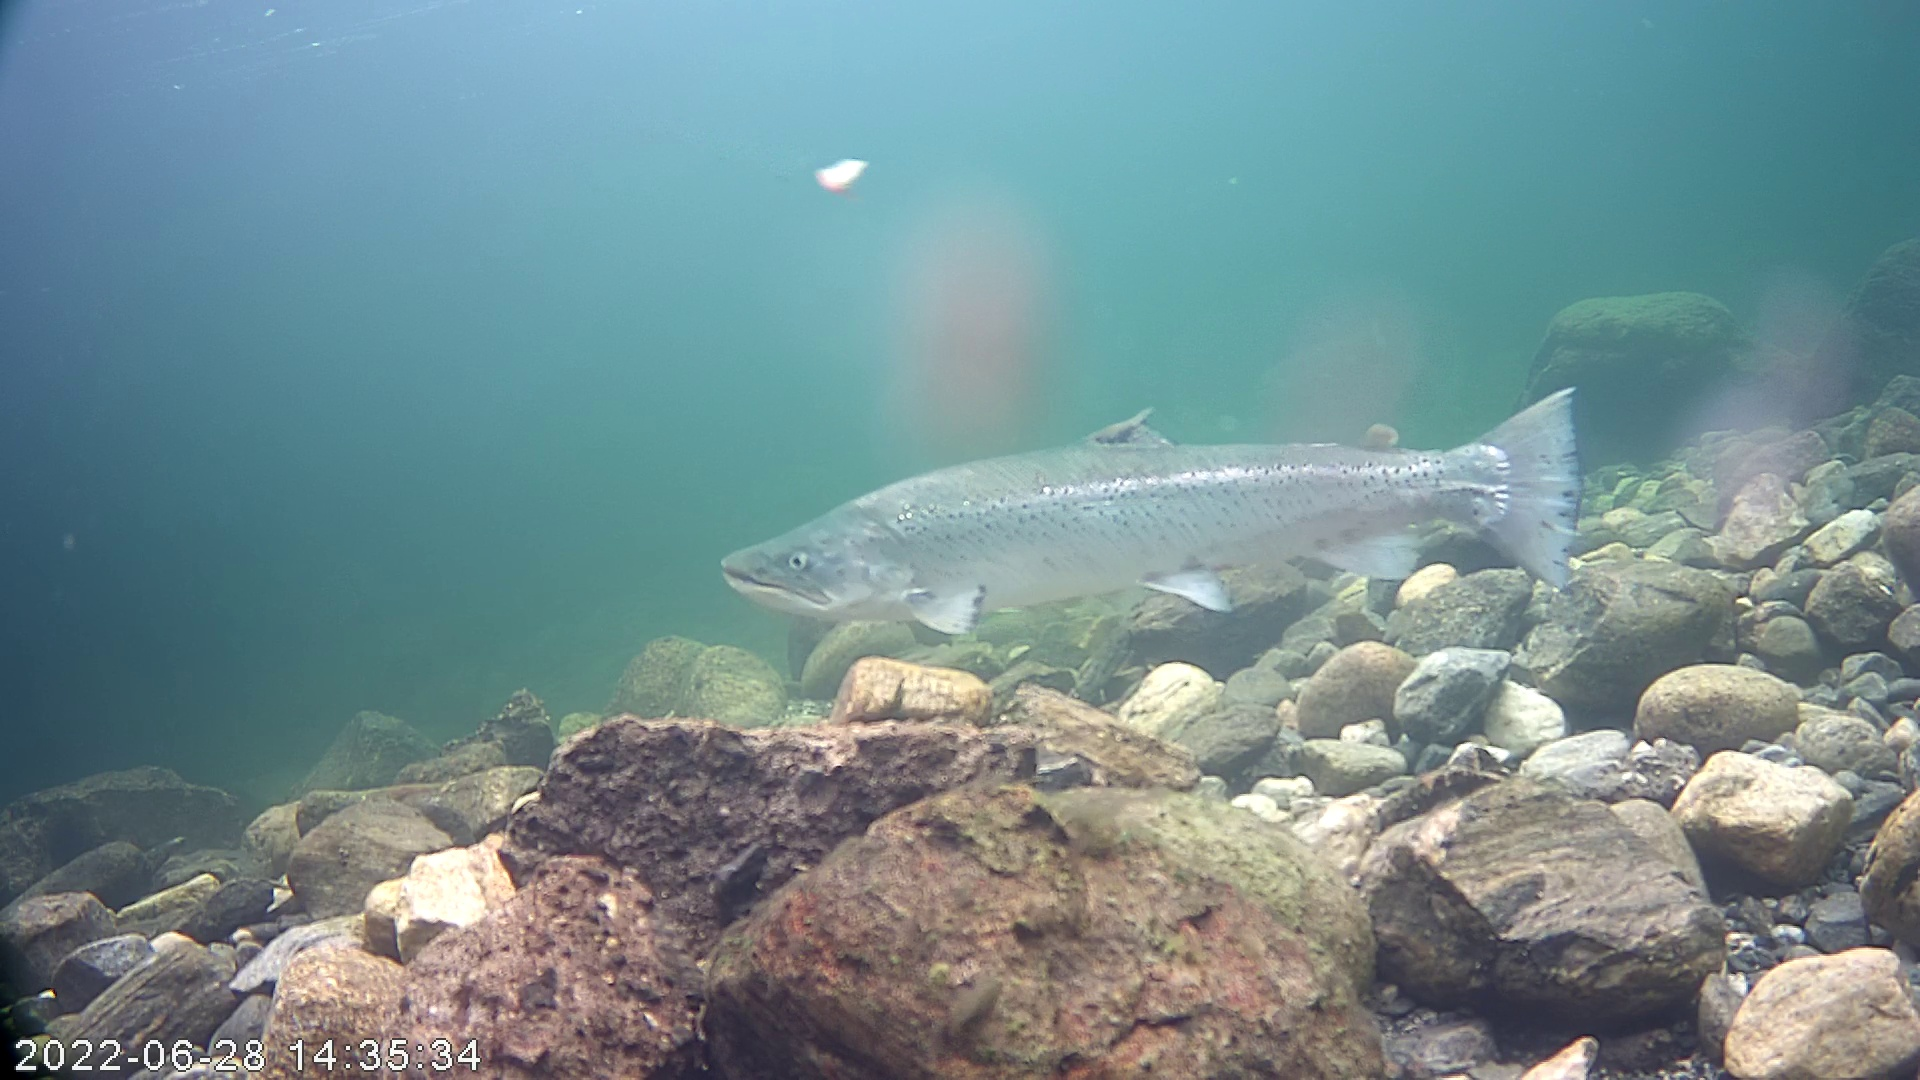salmon: (696, 290, 1625, 694)
